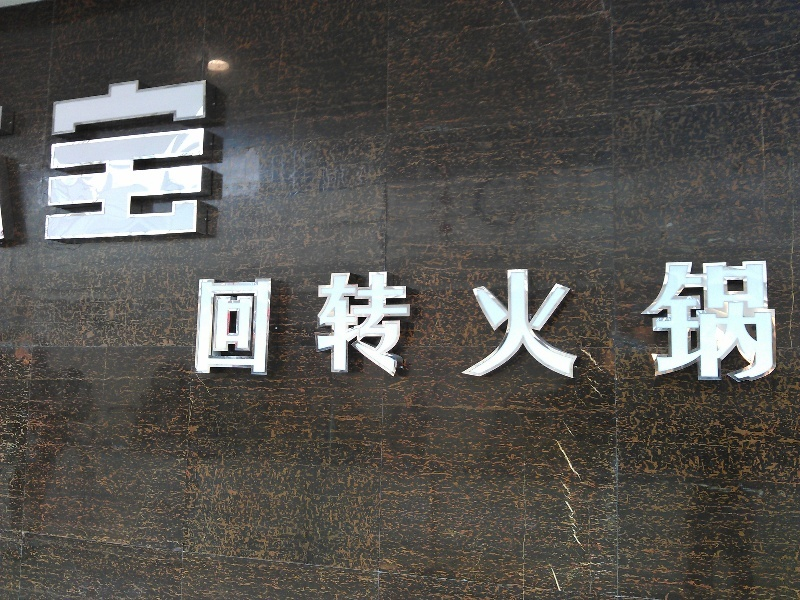text: (65, 74, 80, 244), (81, 74, 96, 244), (97, 74, 112, 244), (113, 74, 128, 244), (129, 74, 144, 244), (145, 74, 160, 244), (161, 74, 176, 244), (177, 74, 192, 244), (193, 74, 208, 244), (52, 74, 64, 244), (209, 259, 224, 381), (225, 259, 240, 381), (241, 259, 256, 381), (257, 259, 272, 381), (273, 259, 288, 381), (289, 259, 304, 381), (305, 259, 320, 381), (321, 259, 336, 381), (337, 259, 352, 381), (353, 259, 368, 381), (369, 259, 384, 381), (385, 259, 400, 381), (401, 259, 416, 381), (417, 259, 432, 381), (433, 259, 448, 381), (449, 259, 464, 381), (465, 259, 480, 381), (481, 259, 496, 381), (497, 259, 512, 381), (513, 259, 528, 381), (529, 259, 544, 381), (545, 259, 560, 381), (561, 259, 576, 381), (577, 259, 592, 381), (593, 259, 608, 381), (609, 259, 624, 381), (625, 259, 640, 381), (641, 259, 656, 381), (657, 259, 672, 381), (673, 259, 688, 381), (689, 259, 704, 381), (705, 259, 720, 381), (721, 259, 736, 381), (737, 259, 752, 381), (753, 259, 768, 381), (769, 259, 780, 381), (199, 259, 208, 381), (209, 74, 213, 244)
